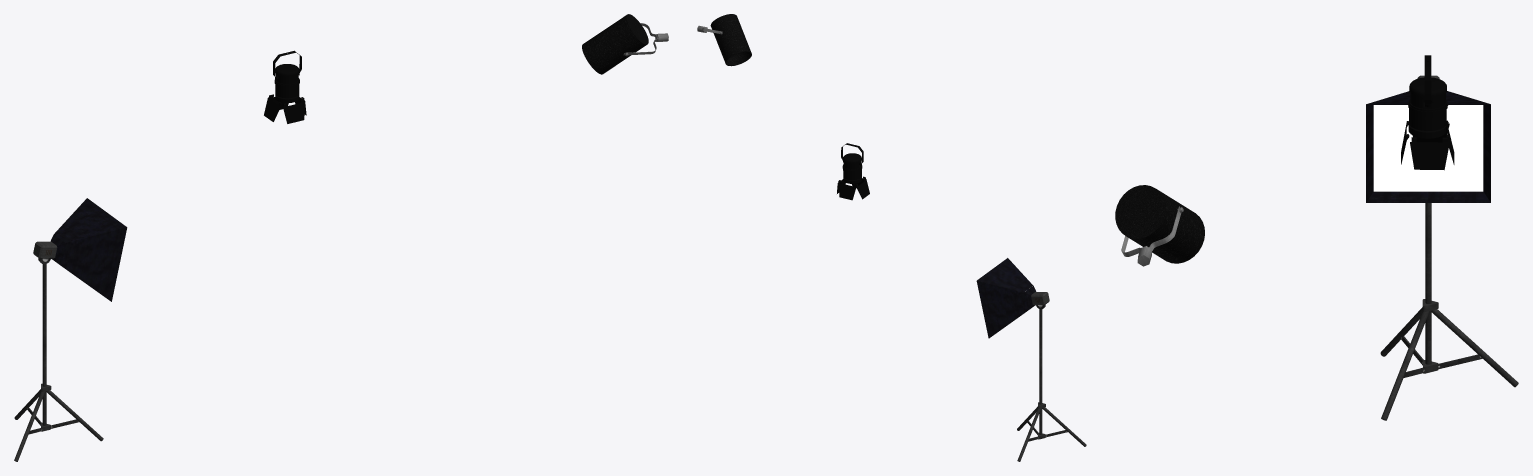
Rendered from light.glb.
3 renders of one model, left to right at view 1: azimuth 30°, elevation 25°; view 2: azimuth 150°, elevation 25°; view 3: azimuth 270°, elevation 25°, orthographic. The views are drawn at different scales.
Parts seen in each view (by area): view 1: Cube, Cylinder001, Reflector Body; view 2: Cube, Cylinder001, Reflector Body; view 3: Cube, Cylinder001, Reflector Body, Lens Door L, Rectangle001, Handle.
Boxes of the visible parts, x1,y1,x2,y2 form: Cube: [14, 198, 127, 461]; Cylinder001: [582, 14, 648, 74]; Reflector Body: [274, 64, 299, 103]; Cube: [976, 258, 1086, 461]; Cylinder001: [710, 14, 751, 66]; Reflector Body: [842, 153, 862, 183]; Cube: [1366, 75, 1518, 420]; Cylinder001: [1115, 185, 1204, 263]; Reflector Body: [1408, 77, 1448, 138]; Lens Door L: [1410, 137, 1449, 170]; Rectangle001: [1121, 206, 1181, 256]; Handle: [1424, 55, 1431, 107].
Bounding box in the file's own units: 20.49 × 12.59 × 7.99.
13 materials, 9 textured.
